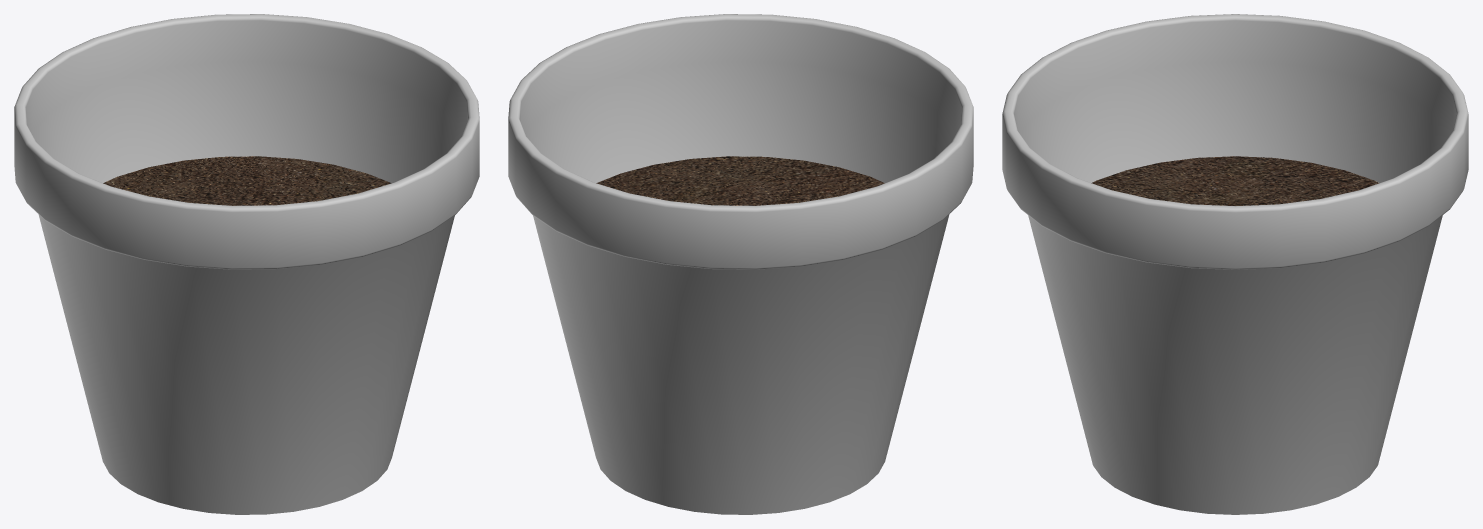
File: pot.fbx
3 views of the same model, side by side, from view 1: azimuth 30°, elevation 25°; view 2: azimuth 150°, elevation 25°; view 3: azimuth 270°, elevation 25° (orthographic).
Visible parts, largest first — view 1: Pot; view 2: Pot; view 3: Pot.
Part boxes in pixels (x1,y1,x2,y2): Pot: (14, 14, 479, 514); Pot: (508, 14, 973, 514); Pot: (1002, 14, 1468, 514).
Bounding box in the file's own units: 482 × 390 × 482.
